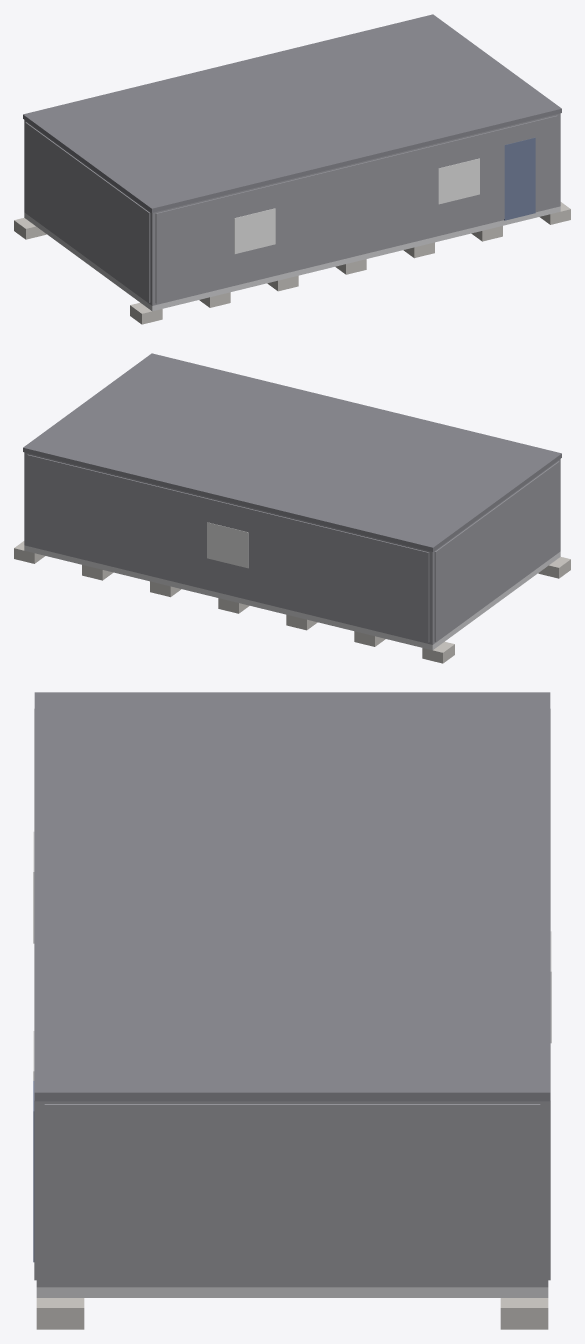
Rendered from Studio-40-Base-AncientWallGrey-LOD0.glb.
The picture shows the model from 3 angles, top to bottom: view 1: azimuth 30°, elevation 25°; view 2: azimuth 150°, elevation 25°; view 3: azimuth 270°, elevation 25°; orthographic projection. The views are drawn at different scales.
Parts seen in each view (by area): view 1: RoofMain, ExteriorPanelsStandard, BaseFrame, WindowsStandard, ExteriorShell, FoundationBlocks, EntryDoor; view 2: RoofMain, ExteriorPanelsStandard, BaseFrame, ExteriorShell, FoundationBlocks, WindowsStandard; view 3: RoofMain, ExteriorPanelsStandard, ExteriorShell, BaseFrame, FoundationBlocks.
Part boxes in pixels (bbox=[...]): RoofMain: bbox=[23, 14, 561, 212]; ExteriorPanelsStandard: bbox=[25, 115, 557, 303]; BaseFrame: bbox=[24, 206, 560, 311]; WindowsStandard: bbox=[234, 158, 479, 254]; ExteriorShell: bbox=[24, 113, 560, 305]; FoundationBlocks: bbox=[14, 202, 570, 324]; EntryDoor: bbox=[504, 137, 535, 220]; RoofMain: bbox=[23, 353, 561, 551]; ExteriorPanelsStandard: bbox=[27, 454, 559, 642]; BaseFrame: bbox=[24, 545, 560, 650]; ExteriorShell: bbox=[24, 452, 560, 644]; FoundationBlocks: bbox=[14, 541, 570, 663]; WindowsStandard: bbox=[207, 522, 248, 568]; RoofMain: bbox=[34, 692, 550, 1101]; ExteriorPanelsStandard: bbox=[34, 709, 550, 1284]; ExteriorShell: bbox=[36, 1101, 548, 1287]; BaseFrame: bbox=[36, 1287, 548, 1297]; FoundationBlocks: bbox=[36, 1298, 548, 1329].
Size of the model in its own units: 12.49 by 3.17 by 6.53.
